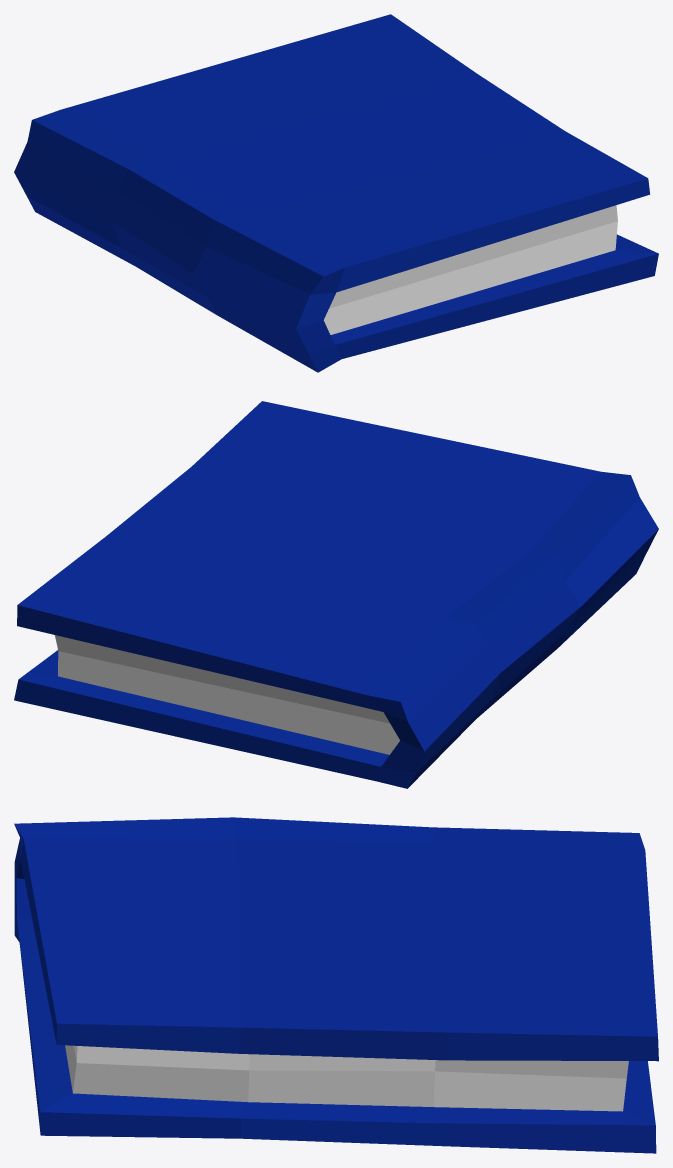
Rendered from book_singular.fbx.
3 views of the same model, one above another, from view 1: azimuth 30°, elevation 25°; view 2: azimuth 150°, elevation 25°; view 3: azimuth 270°, elevation 25° (orthographic). The views are drawn at different scales.
Visible parts, largest first — view 1: books.002; view 2: books.002; view 3: books.002.
Boxes of the visible parts, left/top/right/bottom form: books.002: left=14, top=14, right=658, bottom=372; books.002: left=14, top=401, right=658, bottom=788; books.002: left=14, top=817, right=658, bottom=1153.
Size of the model in its own units: 31.48 by 8.57 by 36.28.
